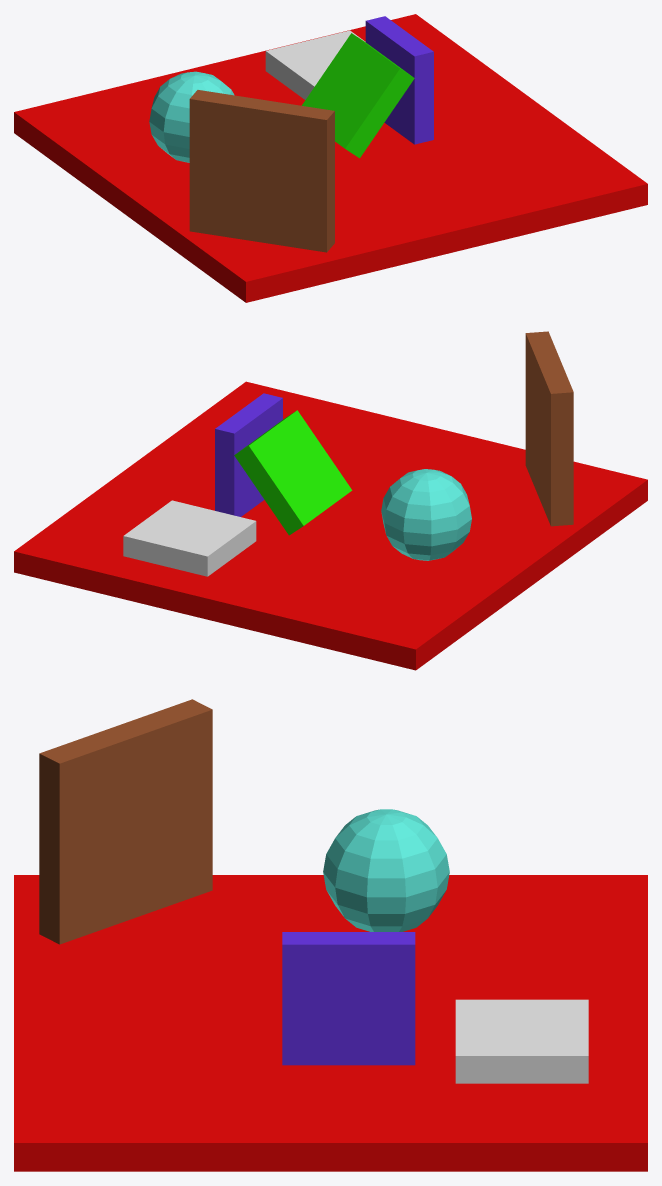
3 views of the same model, one above another, from view 1: azimuth 30°, elevation 25°; view 2: azimuth 150°, elevation 25°; view 3: azimuth 270°, elevation 25° (orthographic). The views are drawn at different scales.
Visible parts, largest first — view 1: Plane, Plane.001, Cube.001, Cube, Sphere.003, Cube.002; view 2: Plane, Plane.001, Cube.001, Cube.002, Sphere.003, Cube; view 3: Plane, Plane.001, Cube, Sphere.003, Cube.002.
Boxes of the visible parts, <box> form: Plane: <box>14,14,647,302</box>; Plane.001: <box>189,90,334,252</box>; Cube.001: <box>302,33,414,158</box>; Cube: <box>365,16,433,144</box>; Sphere.003: <box>149,71,234,162</box>; Cube.002: <box>265,30,365,99</box>; Plane: <box>14,381,647,670</box>; Plane.001: <box>525,331,573,526</box>; Cube.001: <box>234,410,352,535</box>; Cube.002: <box>123,500,256,576</box>; Sphere.003: <box>381,469,471,560</box>; Cube: <box>215,393,282,516</box>; Plane: <box>14,875,647,1171</box>; Plane.001: <box>39,699,212,944</box>; Cube: <box>282,932,415,1065</box>; Sphere.003: <box>323,809,449,931</box>; Cube.002: <box>455,999,588,1083</box>.
Bounding box in the file's own units: 2 × 0.7325 × 2.
